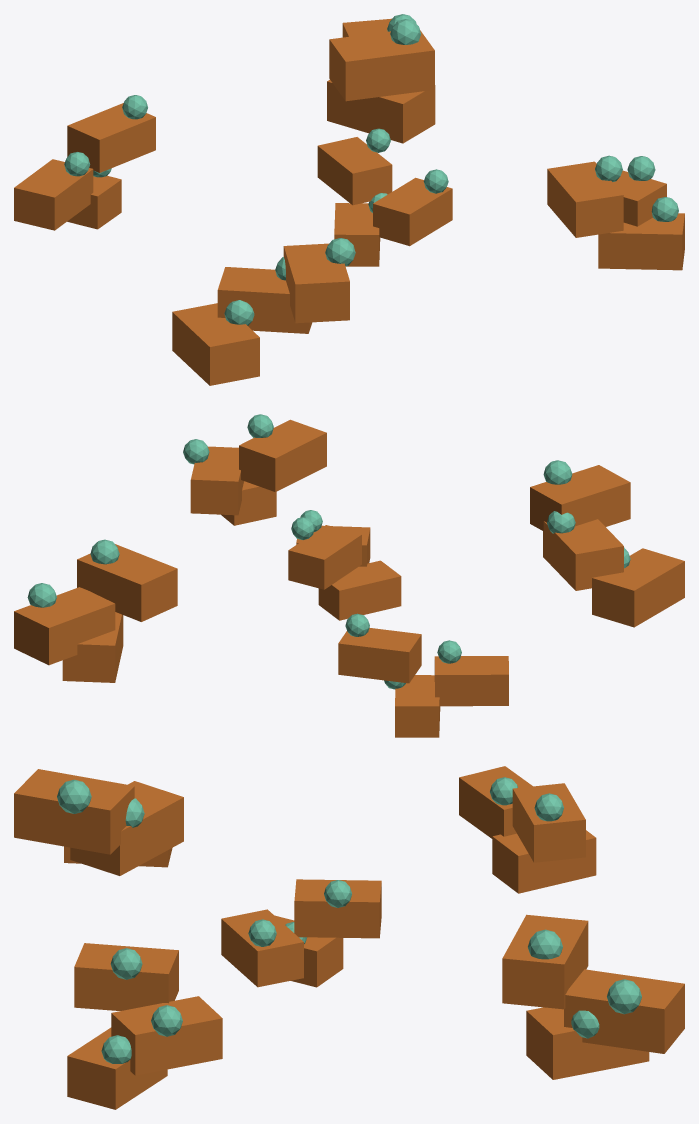
Rendered from copper_ore.glb.
3 views of the same model, one above another, from view 1: azimuth 30°, elevation 25°; view 2: azimuth 150°, elevation 25°; view 3: azimuth 270°, elevation 25° (orthographic). The views are drawn at different scales.
Parts seen in each view (by area): view 1: cluster_3__M_Ore_Copper, cluster_1__M_Ore_Copper, cluster_4__M_Ore_Copper, cluster_0__M_Ore_Copper, cluster_2__M_Ore_Copper, cluster_4__M_Ore_Mint, cluster_3__M_Ore_Mint, cluster_0__M_Ore_Mint, cluster_2__M_Ore_Mint, cluster_1__M_Ore_Mint; view 2: cluster_3__M_Ore_Copper, cluster_1__M_Ore_Copper, cluster_0__M_Ore_Copper, cluster_4__M_Ore_Copper, cluster_2__M_Ore_Copper, cluster_3__M_Ore_Mint, cluster_1__M_Ore_Mint, cluster_0__M_Ore_Mint, cluster_4__M_Ore_Mint, cluster_2__M_Ore_Mint; view 3: cluster_1__M_Ore_Copper, cluster_4__M_Ore_Copper, cluster_3__M_Ore_Copper, cluster_0__M_Ore_Copper, cluster_2__M_Ore_Copper, cluster_1__M_Ore_Mint, cluster_4__M_Ore_Mint, cluster_2__M_Ore_Mint, cluster_3__M_Ore_Mint, cluster_0__M_Ore_Mint.
Part boxes in pixels (x1=…): cluster_3__M_Ore_Copper: x1=172, y1=243, x2=349, y2=385; cluster_1__M_Ore_Copper: x1=327, y1=18, x2=435, y2=143; cluster_4__M_Ore_Copper: x1=547, y1=161, x2=684, y2=270; cluster_0__M_Ore_Copper: x1=14, y1=103, x2=155, y2=230; cluster_2__M_Ore_Copper: x1=317, y1=137, x2=452, y2=266; cluster_4__M_Ore_Mint: x1=595, y1=155, x2=678, y2=221; cluster_3__M_Ore_Mint: x1=224, y1=238, x2=355, y2=325; cluster_0__M_Ore_Mint: x1=64, y1=95, x2=147, y2=177; cluster_2__M_Ore_Mint: x1=366, y1=128, x2=448, y2=212; cluster_1__M_Ore_Mint: x1=387, y1=14, x2=420, y2=44; cluster_3__M_Ore_Copper: x1=530, y1=465, x2=684, y2=627; cluster_1__M_Ore_Copper: x1=14, y1=544, x2=177, y2=682; cluster_0__M_Ore_Copper: x1=338, y1=628, x2=508, y2=737; cluster_4__M_Ore_Copper: x1=190, y1=419, x2=326, y2=525; cluster_2__M_Ore_Copper: x1=288, y1=525, x2=401, y2=620; cluster_3__M_Ore_Mint: x1=543, y1=460, x2=630, y2=568; cluster_1__M_Ore_Mint: x1=27, y1=539, x2=119, y2=607; cluster_0__M_Ore_Mint: x1=345, y1=613, x2=461, y2=689; cluster_4__M_Ore_Mint: x1=183, y1=414, x2=273, y2=464; cluster_2__M_Ore_Mint: x1=291, y1=510, x2=322, y2=539; cluster_1__M_Ore_Copper: x1=502, y1=914, x2=684, y2=1079; cluster_4__M_Ore_Copper: x1=67, y1=943, x2=222, y2=1109; cluster_3__M_Ore_Copper: x1=14, y1=769, x2=183, y2=875; cluster_0__M_Ore_Copper: x1=459, y1=766, x2=596, y2=893; cluster_2__M_Ore_Copper: x1=221, y1=879, x2=381, y2=987; cluster_1__M_Ore_Mint: x1=528, y1=929, x2=641, y2=1038; cluster_4__M_Ore_Mint: x1=101, y1=948, x2=182, y2=1063; cluster_2__M_Ore_Mint: x1=248, y1=880, x2=351, y2=946; cluster_3__M_Ore_Mint: x1=57, y1=779, x2=144, y2=827; cluster_0__M_Ore_Mint: x1=490, y1=777, x2=563, y2=821.
Bounding box in the file's own units: 0.8506 × 0.1865 × 0.868.
